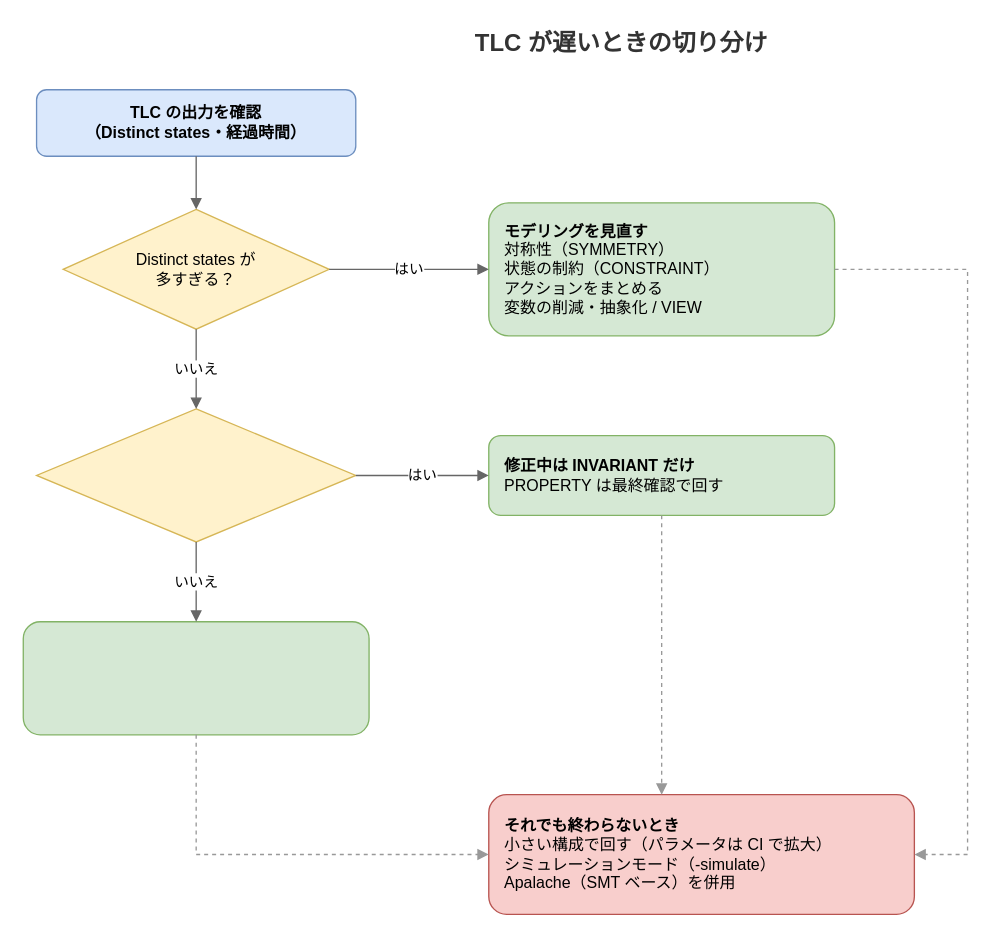
Image size: 1001x938. Some labels were removed from this diagram. Each missing label, with the centre of its shape:
Liveness（時相論理の 性質）を検査している？: the point at 195,475
実行環境を調整する -workers でマルチスレッド -Xmx でヒープを増やす -fpmem で指紋用メモリを確保: the point at 195,677
